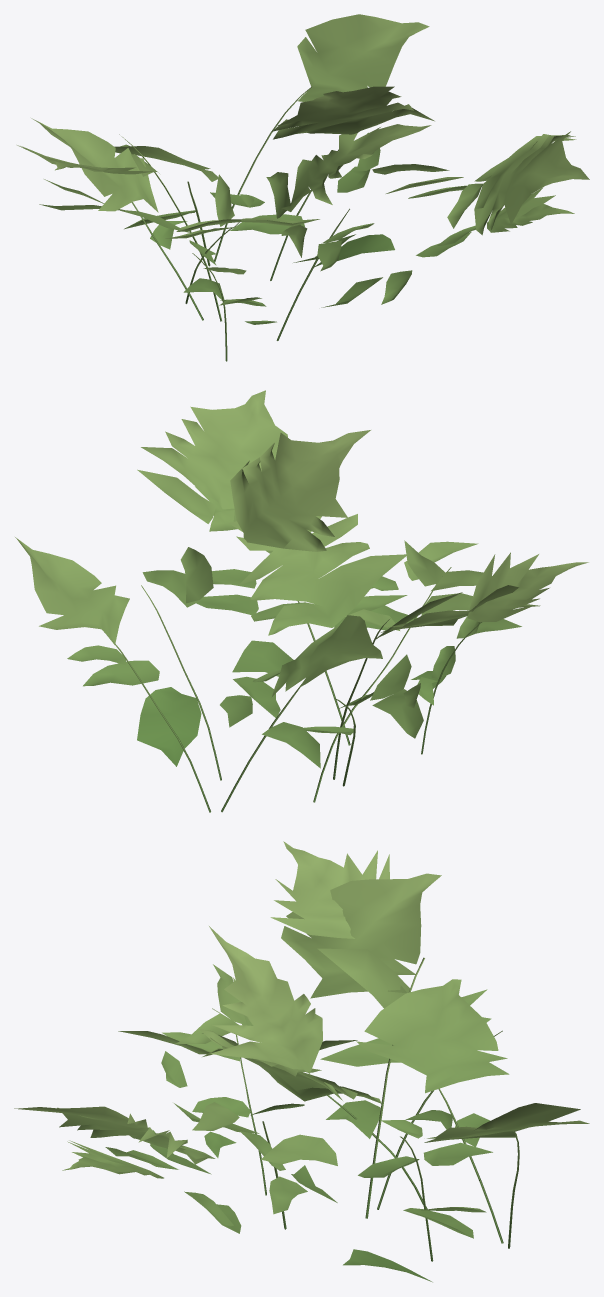
Rendered from Fern Lush A.glb.
3 views of the same model, one above another, from view 1: azimuth 30°, elevation 25°; view 2: azimuth 150°, elevation 25°; view 3: azimuth 270°, elevation 25° (orthographic). The views are drawn at different scales.
Visible parts, largest first — view 1: Fern Lush A; view 2: Fern Lush A; view 3: Fern Lush A.
Part boxes in pixels (x1,y1,x2,y2): Fern Lush A: [17, 14, 589, 361]; Fern Lush A: [15, 390, 588, 812]; Fern Lush A: [14, 841, 589, 1282].
Bounding box in the file's own units: 1.17 × 0.636 × 1.06.
